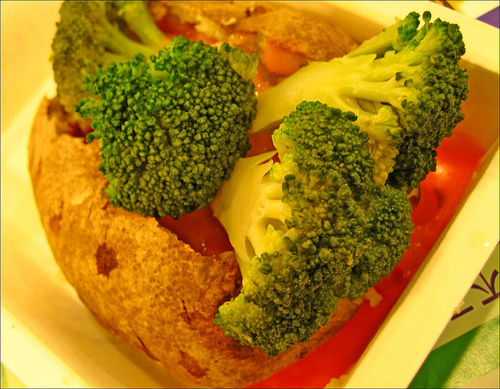broccoli: (210, 99, 414, 360), (245, 10, 467, 192), (72, 36, 256, 217)
